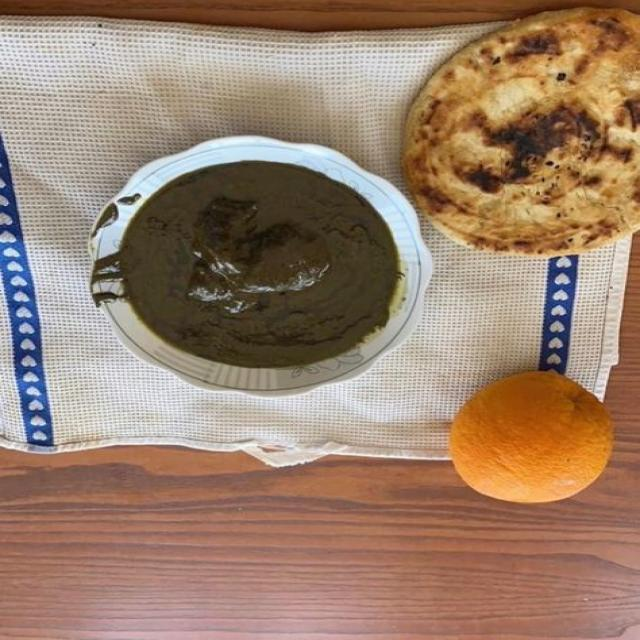Melloukhia: (70, 143, 424, 406)
